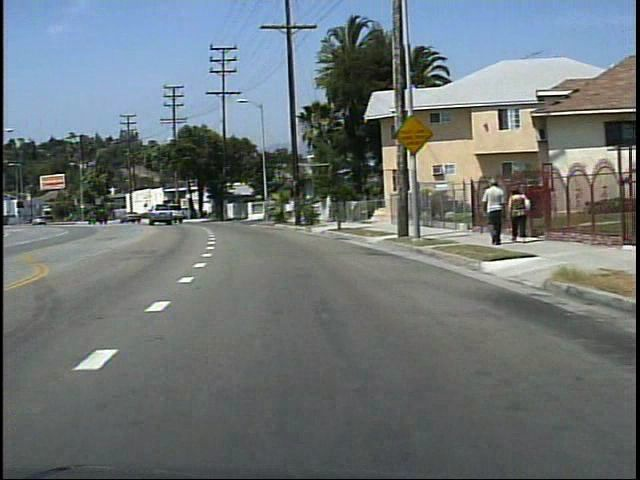person: (479, 177, 503, 247), (502, 185, 530, 244)
